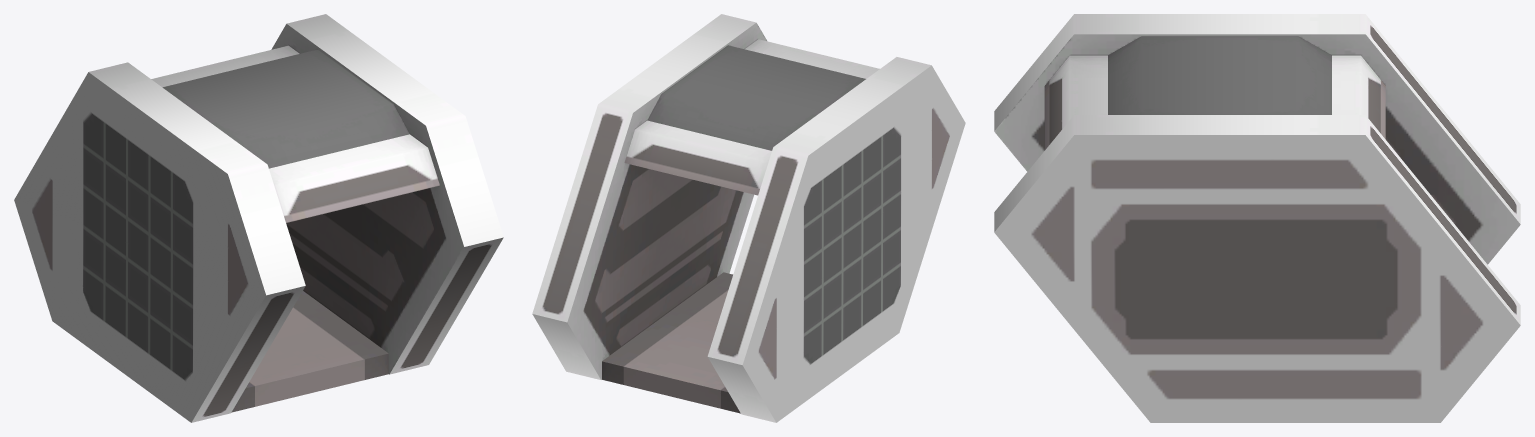
File: monitor.glb
The picture shows the model from 3 angles, left to right: view 1: azimuth 30°, elevation 25°; view 2: azimuth 150°, elevation 25°; view 3: azimuth 270°, elevation 25°; orthographic projection. The views are drawn at different scales.
Parts seen in each view (by area): view 1: monitor-lod0; view 2: monitor-lod0; view 3: monitor-lod0.
Part boxes in pixels (x1,y1,x2,y2): monitor-lod0: (14,14,503,422); monitor-lod0: (532,14,965,422); monitor-lod0: (994,14,1520,422).
Size of the model in its own units: 1.2 by 1.33 by 2.21.
Materials: 1 (1 with a texture image).
